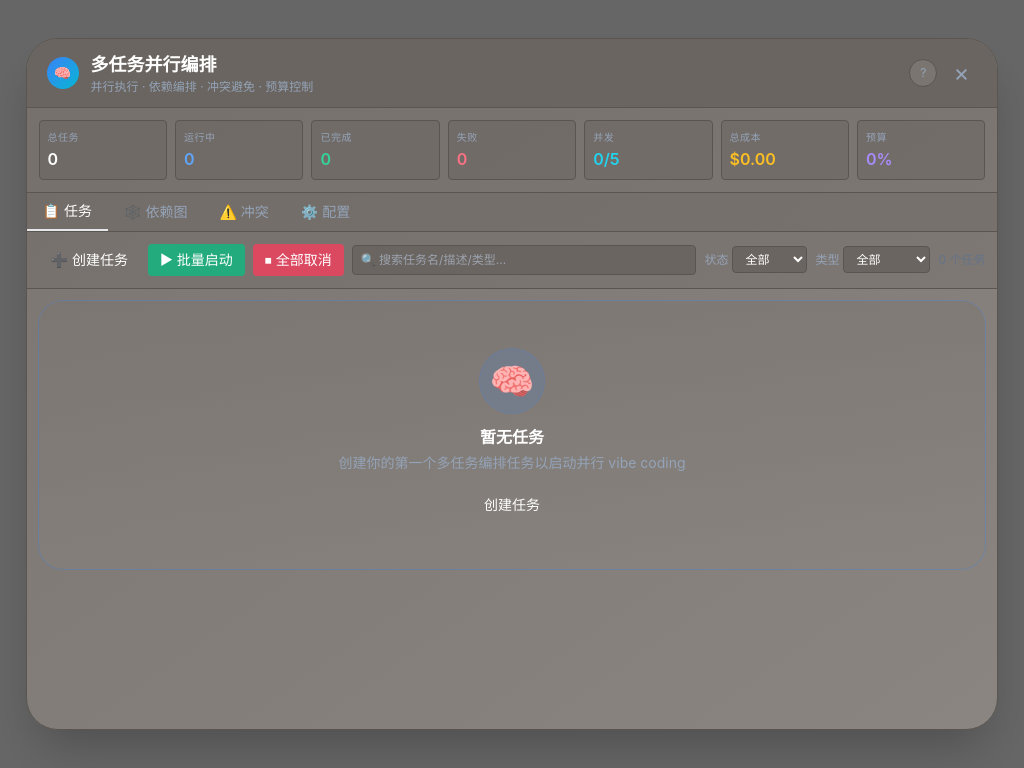
Scenario: MultiTaskOrchestrationPanel › 点击快捷键按钮应打开帮助面板
The image size is (1024, 768).
Click the button with test id "multi-task-shortcuts-btn" at (923, 73), box [909,59,937,87]
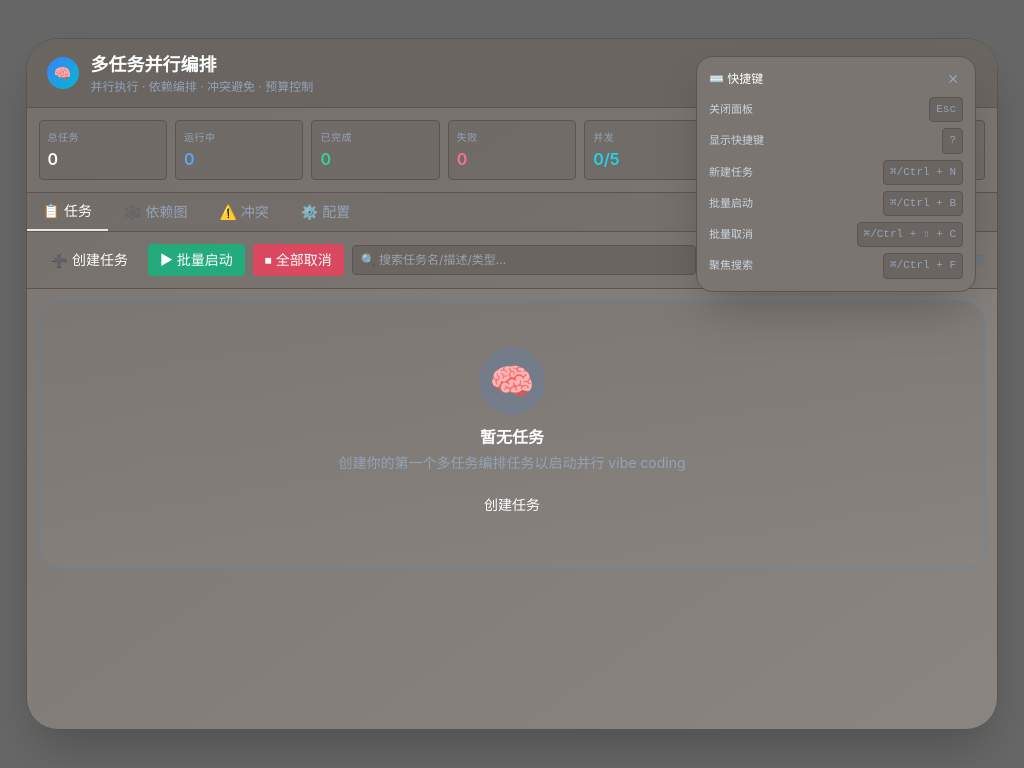
Expected: the element with test id "multi-task-shortcuts-panel" is shown, [696,56,976,292]
